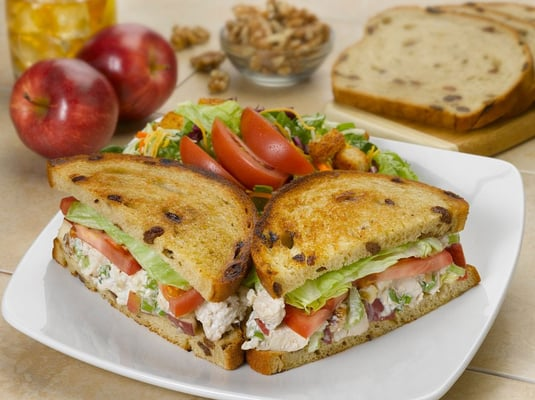soup: (244, 170, 480, 376), (50, 151, 258, 370), (331, 4, 535, 133)
steak: (9, 57, 120, 159), (76, 21, 178, 122)
sushi: (219, 0, 333, 87)
